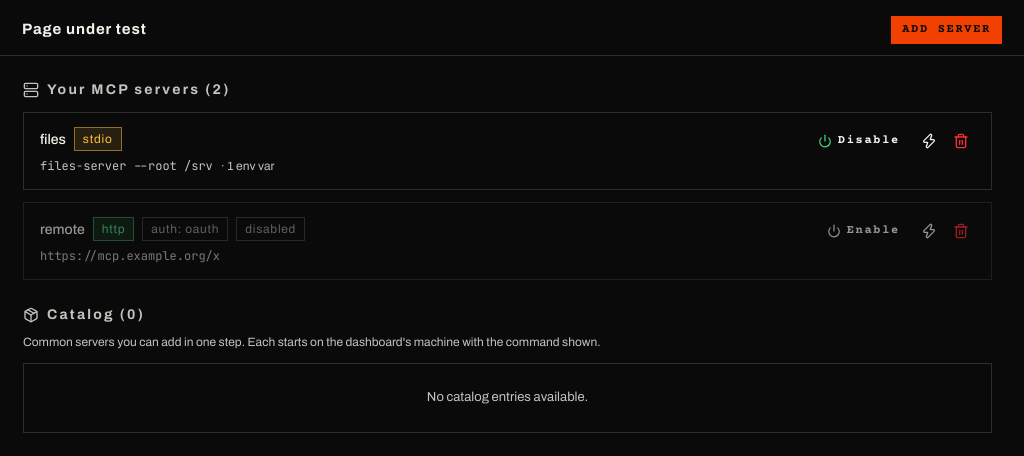
mcp page › shows a failed test's reason
The width and height of the screenshot is (1024, 456).
(page scrolled)
Step 1. Click the button named "Test" in the row of "remote" → point(929, 231), box [915, 217, 943, 245]
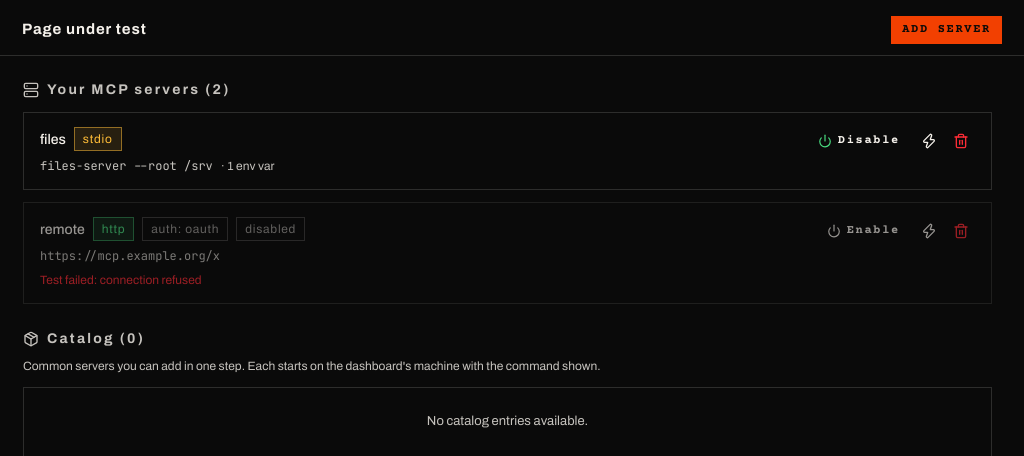
Result: the message shows "connection refused" at [100, 273, 202, 287]
